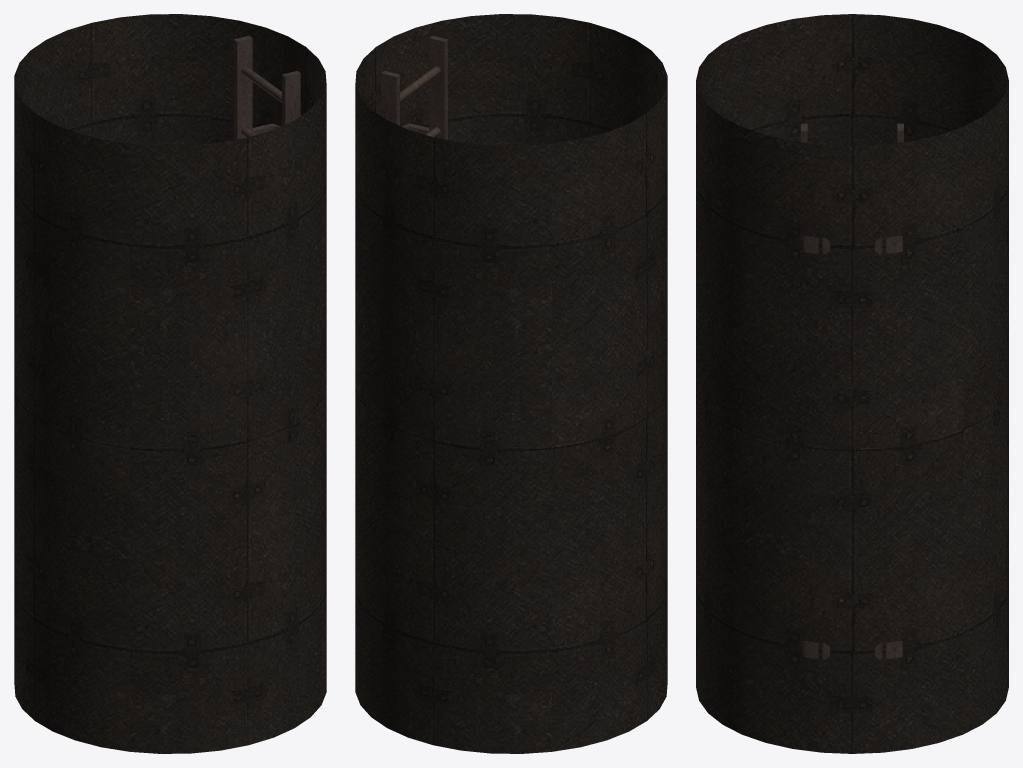
File: manhole_shaft_middle_1.glb
The picture shows the model from 3 angles, left to right: view 1: azimuth 30°, elevation 25°; view 2: azimuth 150°, elevation 25°; view 3: azimuth 270°, elevation 25°; orthographic projection.
Visible parts, largest first — view 1: manhole_shaft_middle_1, shaft_middle_ladder; view 2: manhole_shaft_middle_1, shaft_middle_ladder; view 3: manhole_shaft_middle_1, shaft_middle_ladder.
Boxes of the visible parts, left/top/right/bottom form: manhole_shaft_middle_1: left=14, top=14, right=326, bottom=753; shaft_middle_ladder: left=234, top=35, right=300, bottom=139; manhole_shaft_middle_1: left=355, top=14, right=667, bottom=753; shaft_middle_ladder: left=381, top=35, right=447, bottom=139; manhole_shaft_middle_1: left=696, top=14, right=1008, bottom=753; shaft_middle_ladder: left=801, top=123, right=903, bottom=659.
Bounding box in the file's own units: 1.4 × 3 × 1.4.
Materials: 3 (3 with a texture image).
